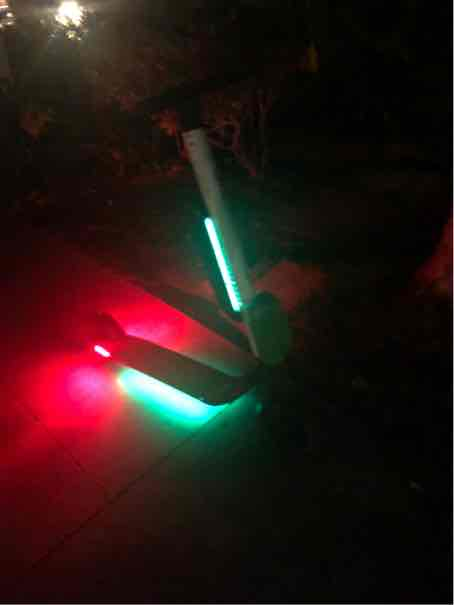scooter: (73, 68, 334, 471)
